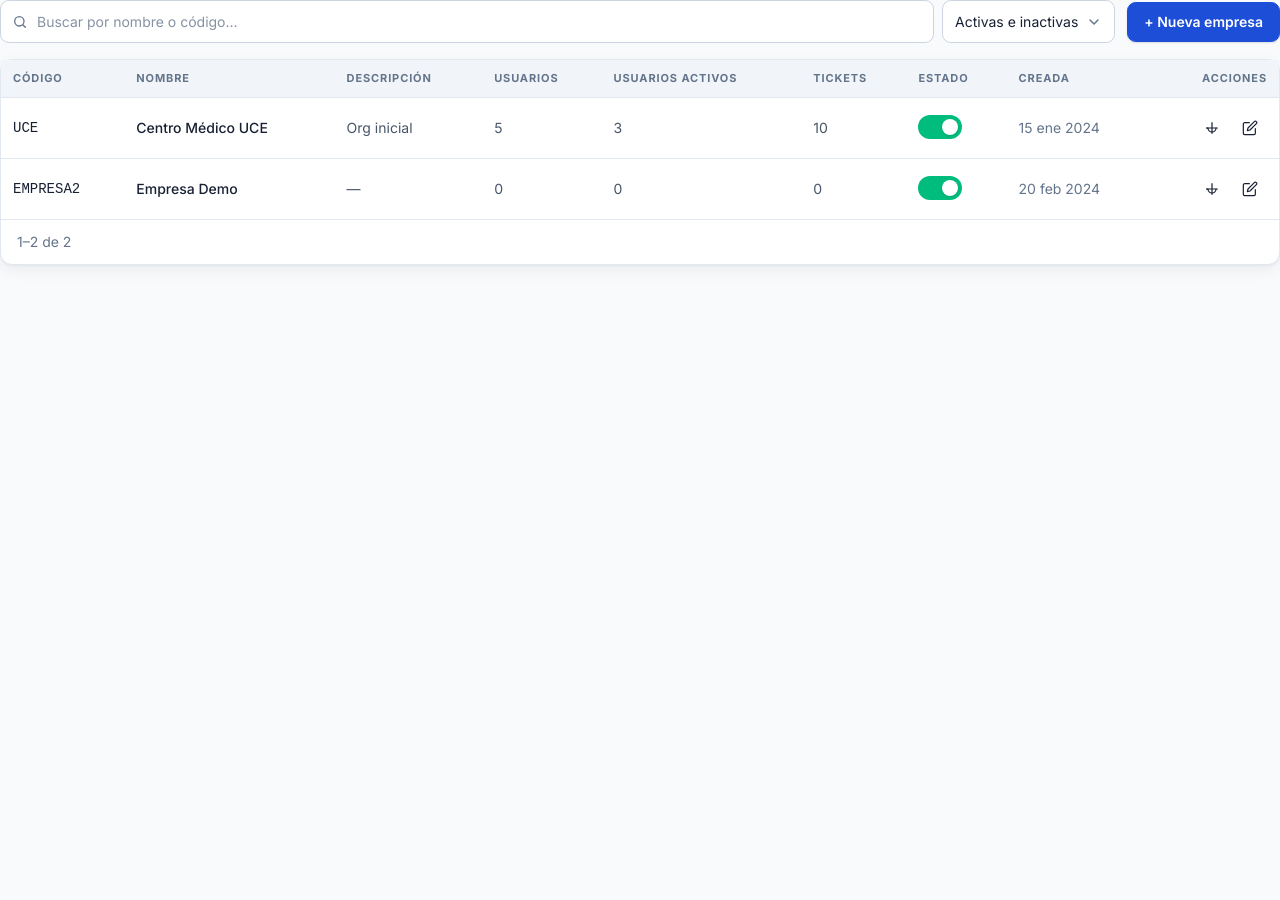
Scenario: Organizations Page · Crear administrador (SUPERADMIN) › valida campos obligatorios en creación de administrador
Expected: the text "UCE" is shown, 1,97 -> 124,158
# Hacer clic en el primer botón "Crear administrador"
Click the button named "Crear administrador para Centro Médico UCE". click: (1212, 128)
box: 1195,108 -> 1229,148
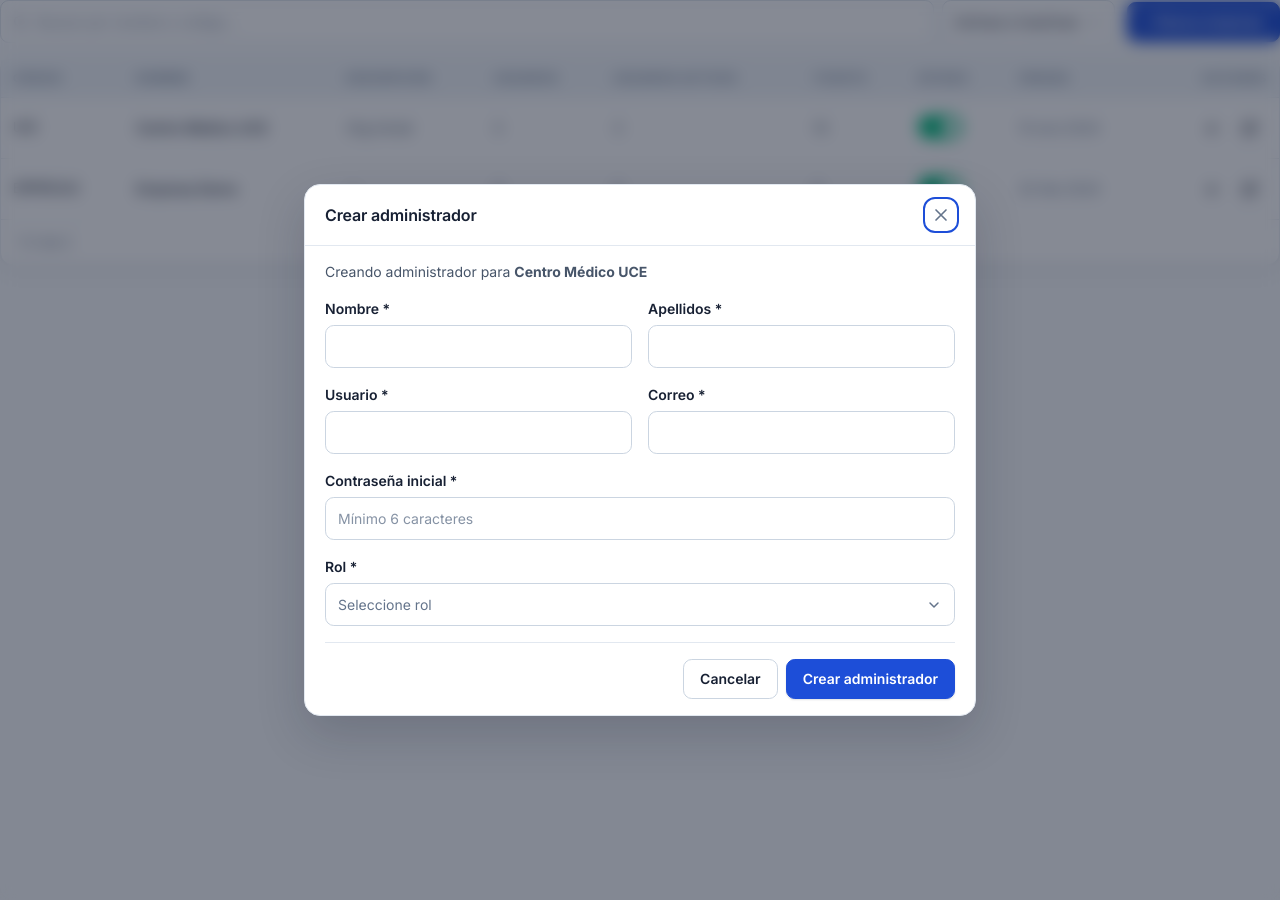
Expected: the dialog "Crear administrador" is shown, 304,184 -> 976,716
# Intentar guardar sin llenar campos - usar el botón submit del formulario
Click the button "Crear administrador". click: (870, 679)
box: 786,659 -> 955,699
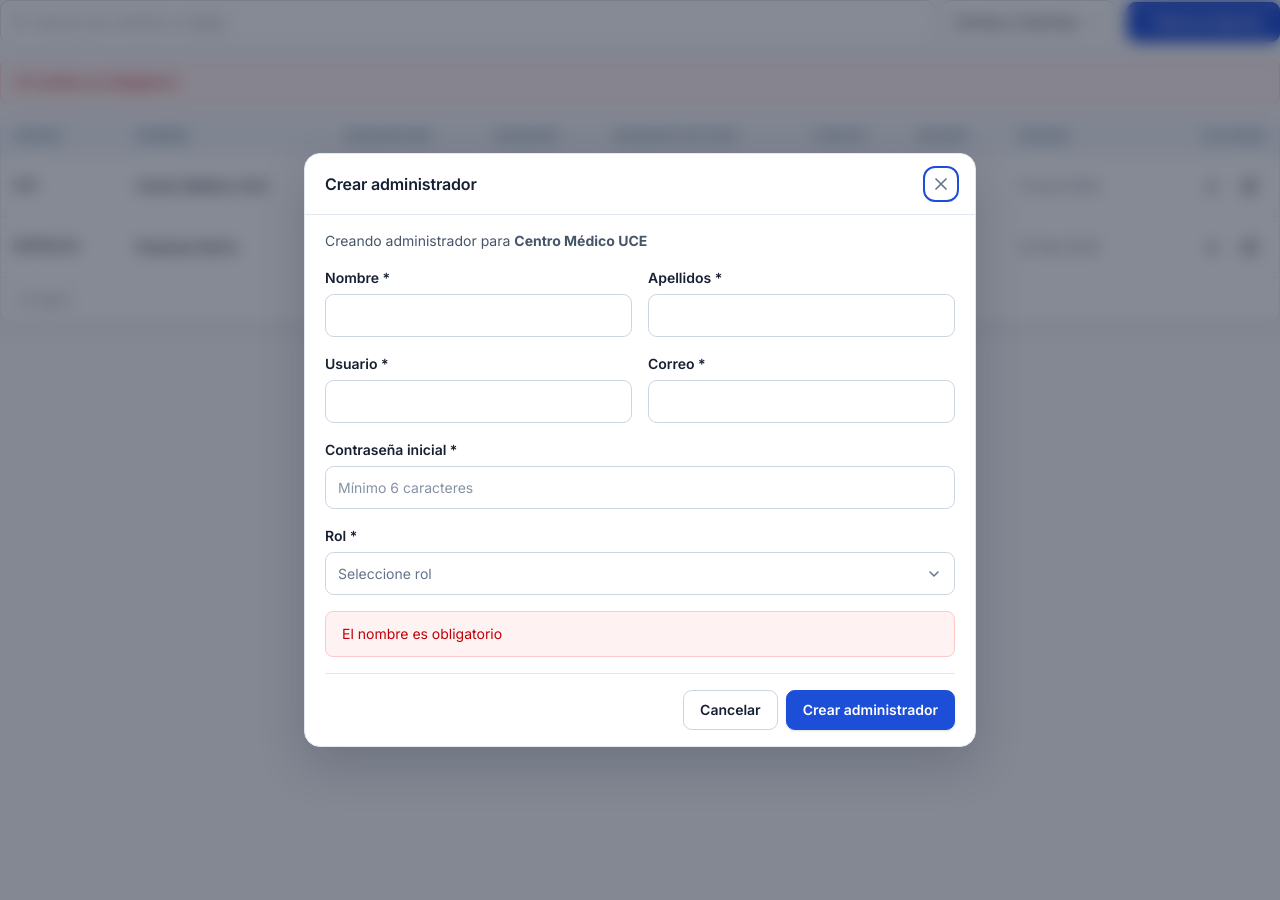
Expected: the dialog "Crear administrador" shows "El nombre es obligatorio", 342,625 -> 502,642
